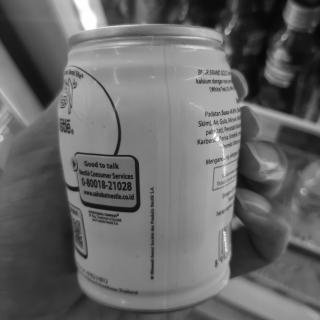alumunium_can: (56, 21, 244, 311)
